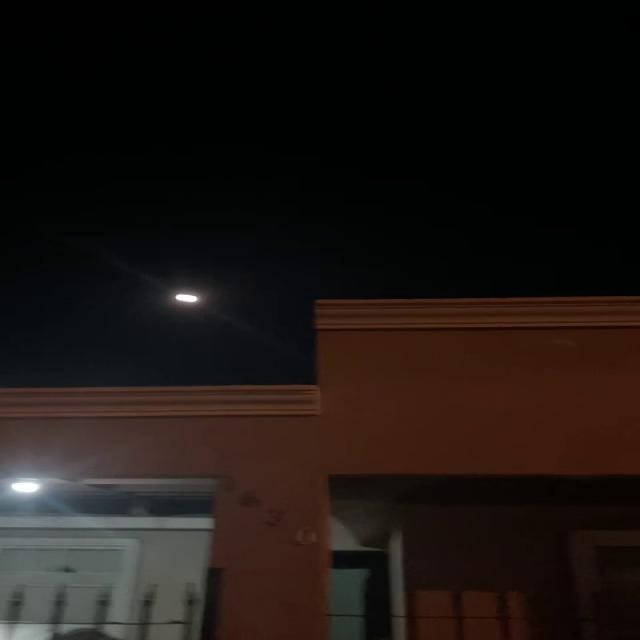moon: (168, 285, 216, 311)
